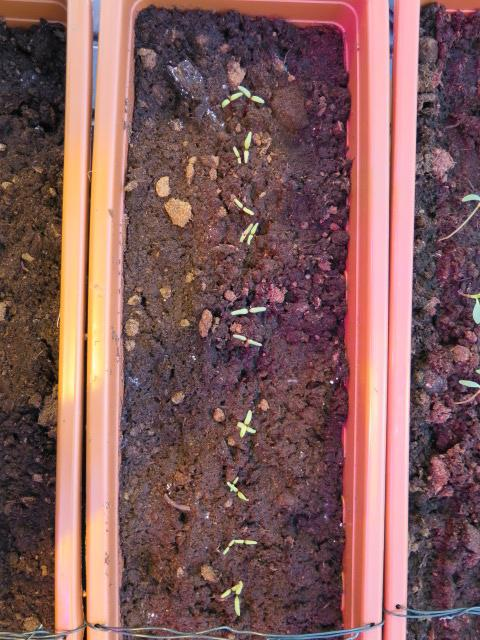crop: (224, 301, 268, 319), (228, 331, 264, 350), (230, 194, 256, 217)
